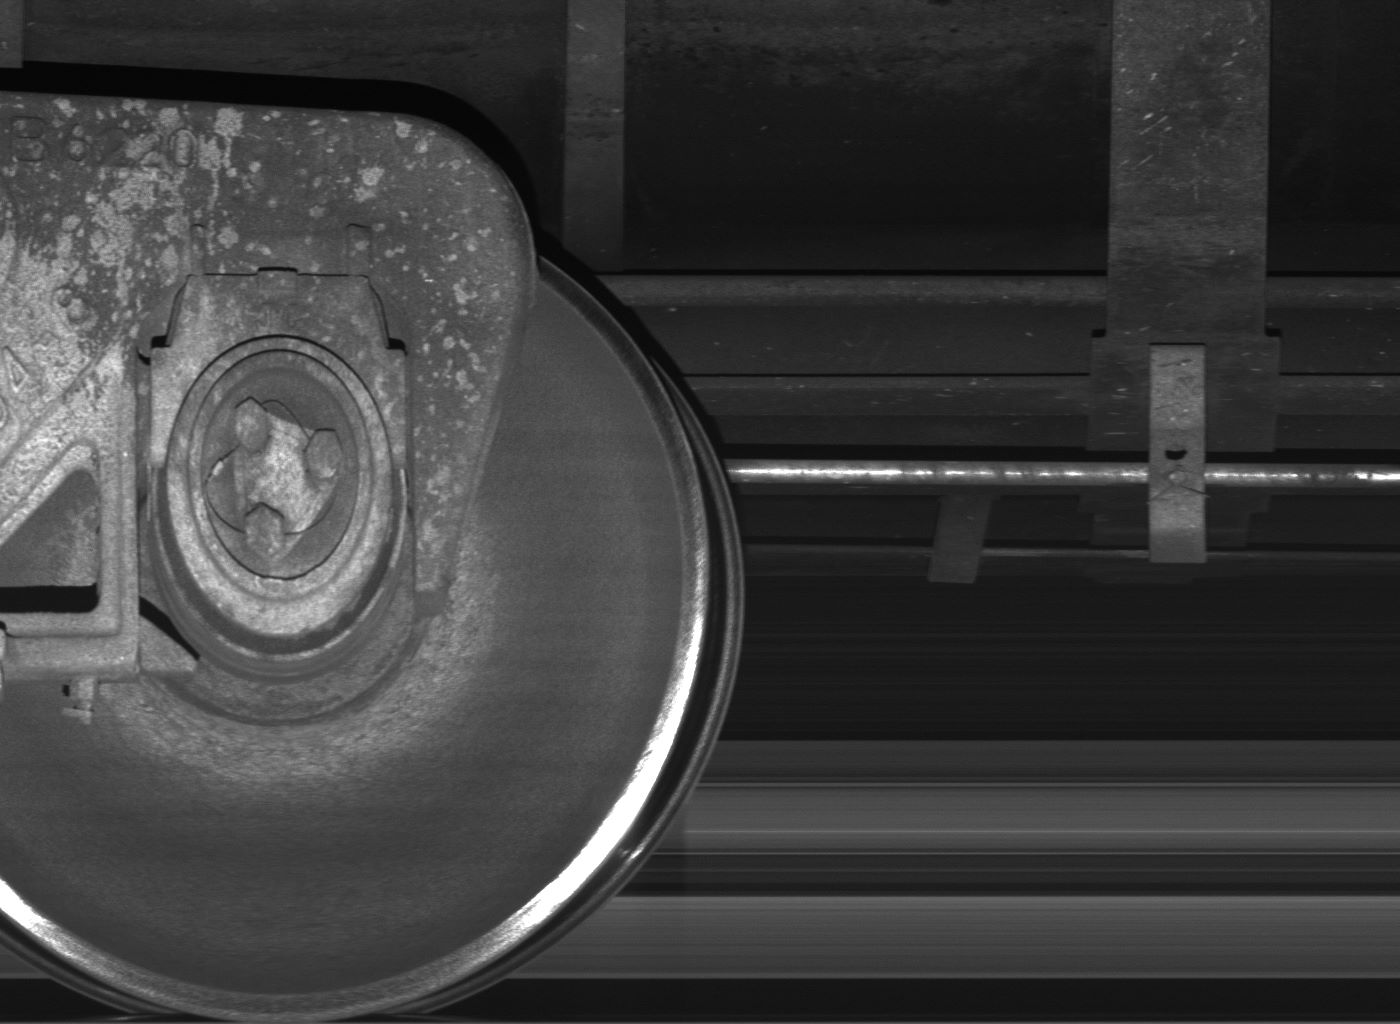normal: (1150, 345, 1210, 562), (926, 491, 991, 584)
